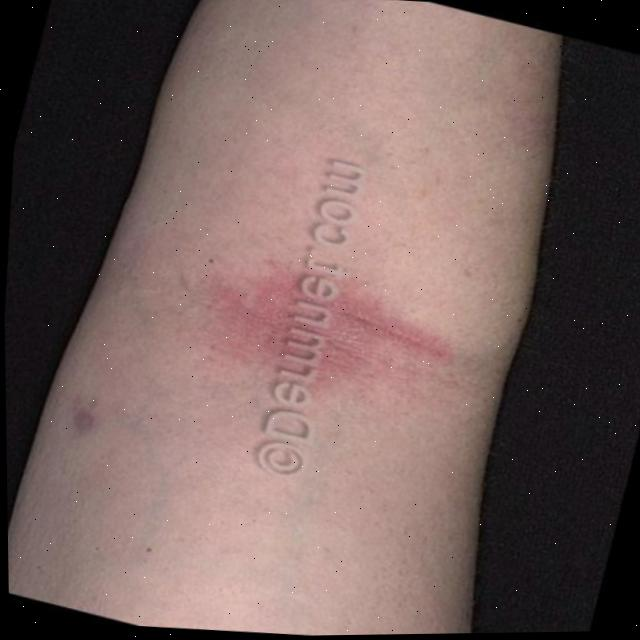Eczema: (192, 269, 440, 386), (70, 408, 110, 462)
